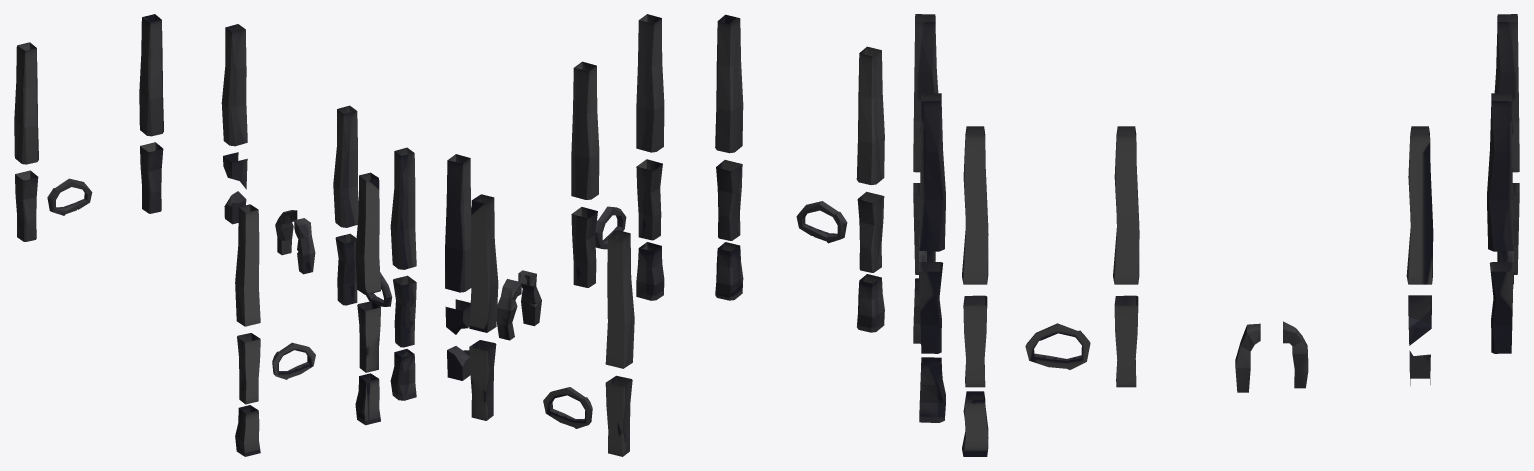
Rendered from Wall_02.FBX.
3 views of the same model, side by side, from view 1: azimuth 30°, elevation 25°; view 2: azimuth 150°, elevation 25°; view 3: azimuth 270°, elevation 25° (orthographic). The views are drawn at different scales.
Visible parts, largest first — view 1: Wall_02; view 2: Wall_02; view 3: Wall_02.
Part boxes in pixels (x1=…): Wall_02: x1=14, y1=14, x2=416, y2=456; Wall_02: x1=445, y1=14, x2=884, y2=456; Wall_02: x1=913, y1=14, x2=1519, y2=456.
Size of the model in its own units: 12.35 by 14.89 by 25.48.
